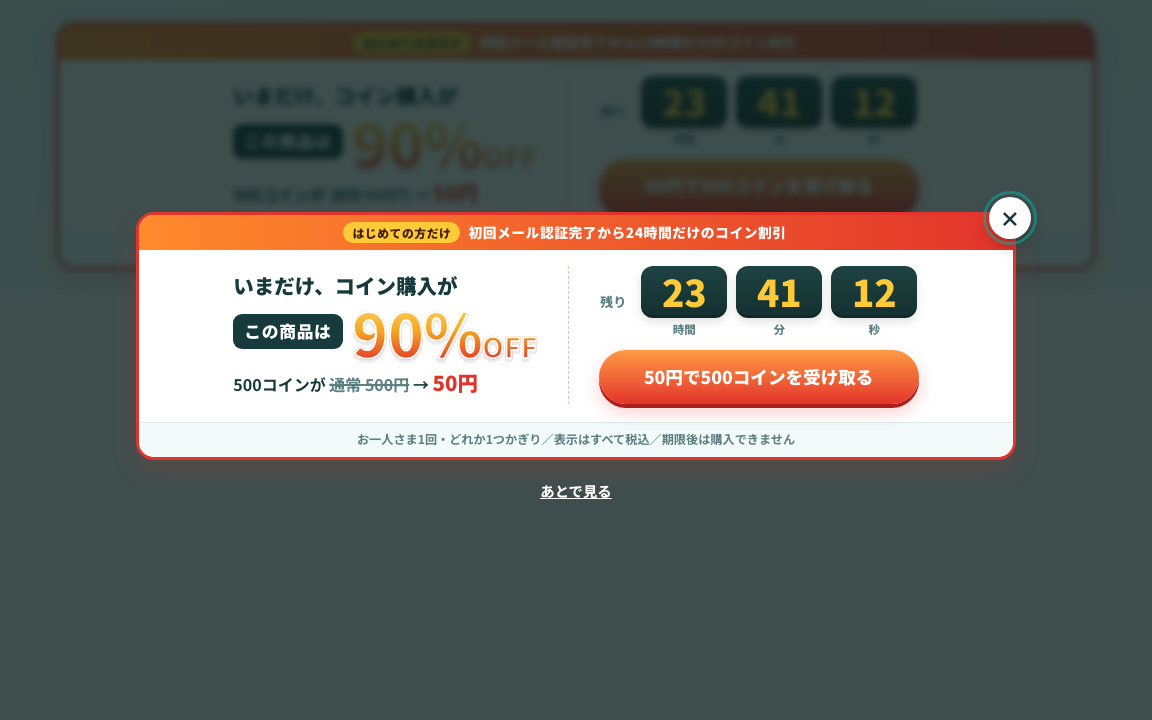
it: isolated first-buy layout › dismisses the explicit popup with close
Click the button named "閉じる" at coordinates (1010, 218), box x1=989 y1=197 x2=1031 y2=239
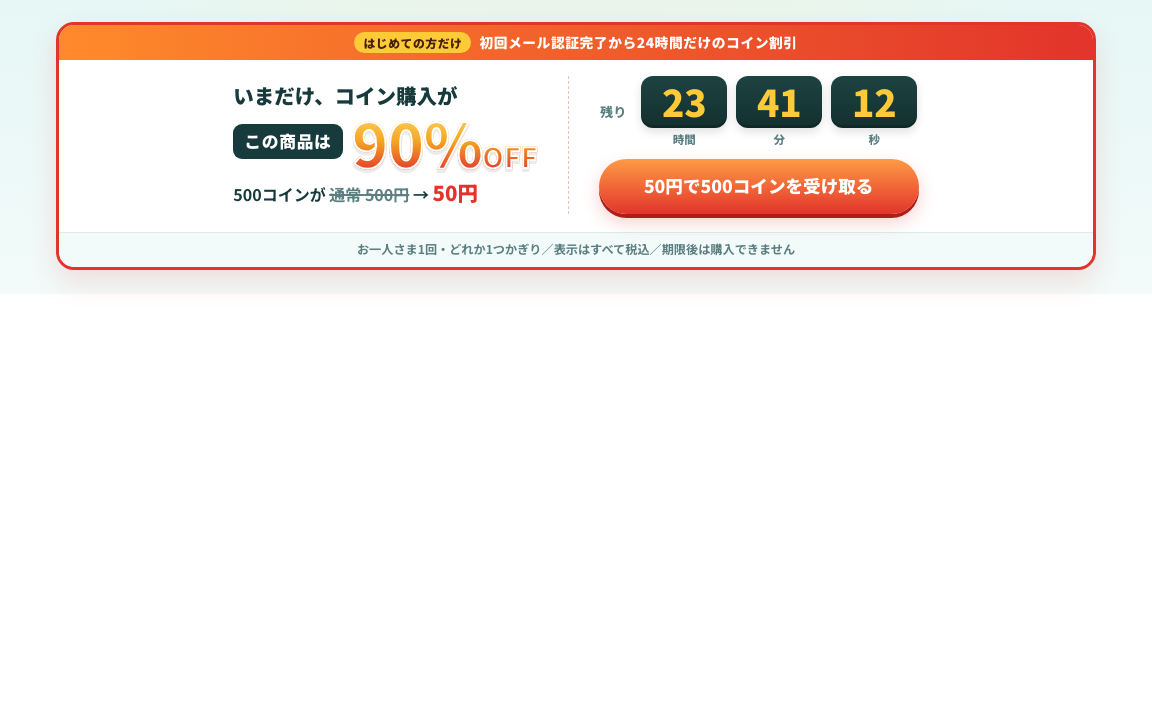
Expected: the dialog is gone
